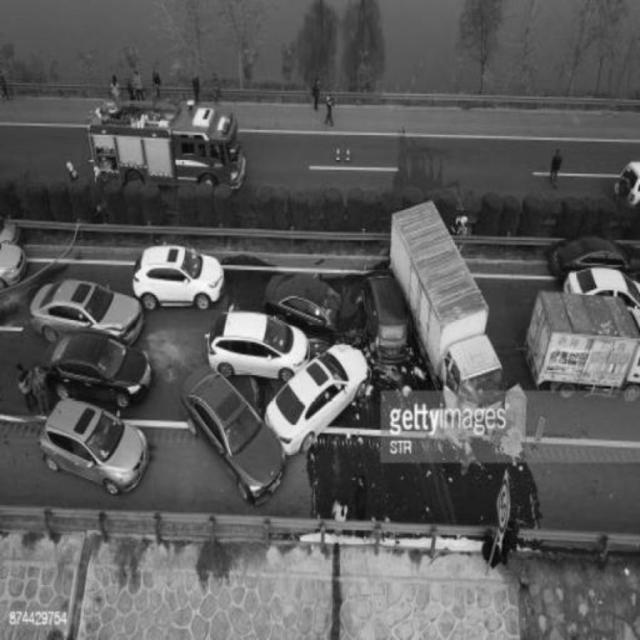accident: (192, 267, 390, 500)
vehicle: (83, 90, 243, 193), (44, 398, 150, 498), (44, 333, 160, 405), (31, 277, 144, 339), (124, 246, 222, 310)
